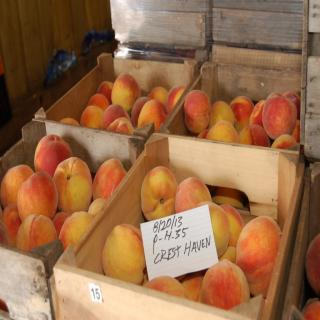Peach: (103, 165, 283, 309), (0, 133, 128, 314), (183, 90, 301, 208), (59, 73, 188, 135), (182, 90, 210, 133), (305, 232, 320, 295), (301, 296, 320, 320)
